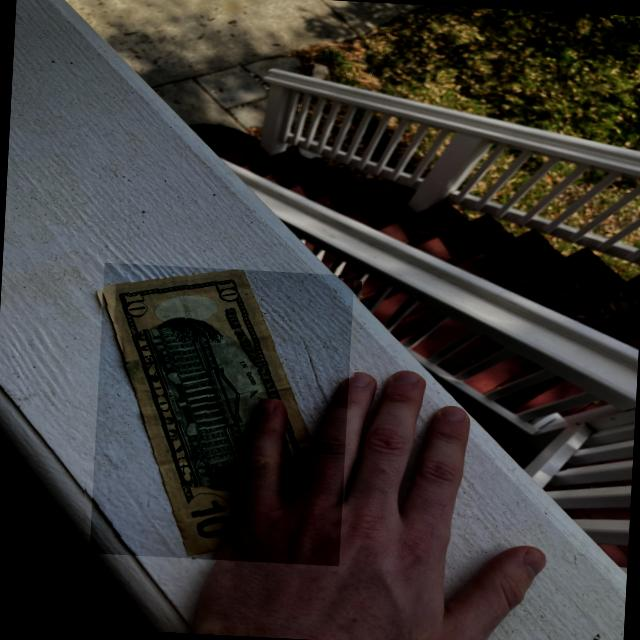ten: (90, 240, 342, 581)
